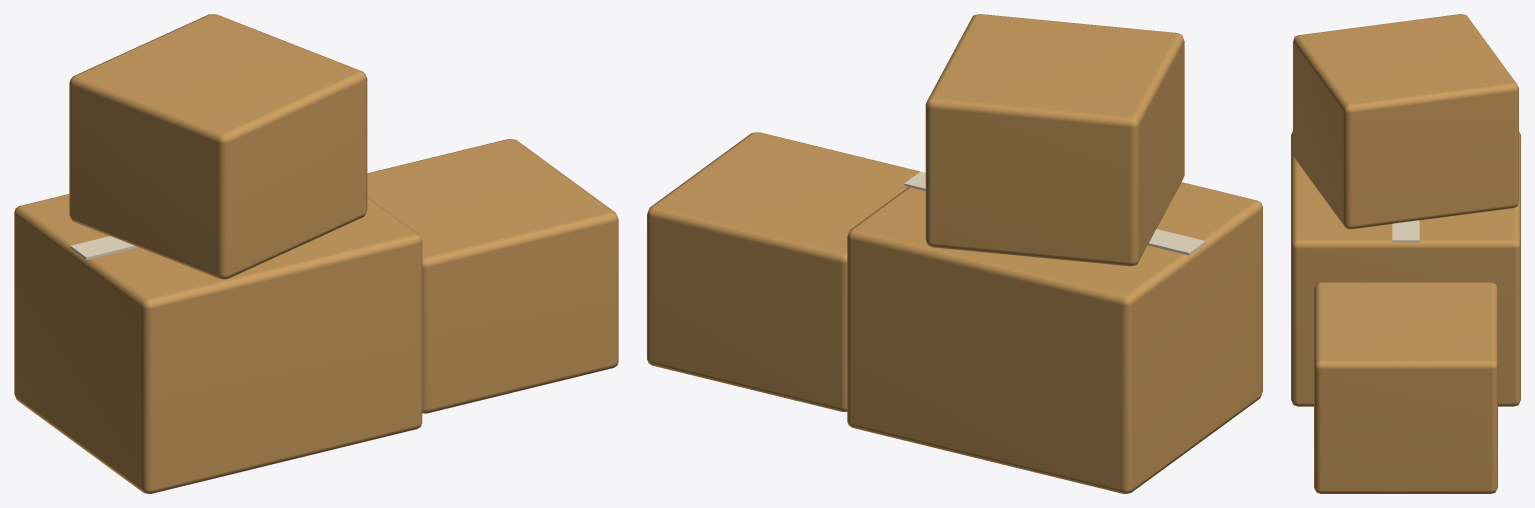
Rendered from carton.glb.
3 views of the same model, side by side, from view 1: azimuth 30°, elevation 25°; view 2: azimuth 150°, elevation 25°; view 3: azimuth 270°, elevation 25° (orthographic). The views are drawn at different scales.
Parts seen in each view (by area): view 1: B1, B3, B2, Tape; view 2: B1, B3, B2, Tape; view 3: B3, B2, B1, Tape.
Boxes of the visible parts, left/top/right/bottom form: B1: left=14, top=194, right=422, bottom=493; B3: left=69, top=14, right=367, bottom=279; B2: left=367, top=139, right=618, bottom=413; Tape: left=70, top=236, right=137, bottom=259; B1: left=847, top=182, right=1262, bottom=493; B3: left=925, top=14, right=1184, bottom=266; B2: left=647, top=132, right=920, bottom=411; Tape: left=904, top=171, right=1205, bottom=255; B3: left=1293, top=14, right=1518, bottom=229; B2: left=1314, top=282, right=1497, bottom=493; B1: left=1291, top=131, right=1520, bottom=406; Tape: left=1392, top=220, right=1419, bottom=242.
Size of the model in its own units: 1.05 by 0.7 by 0.5.
